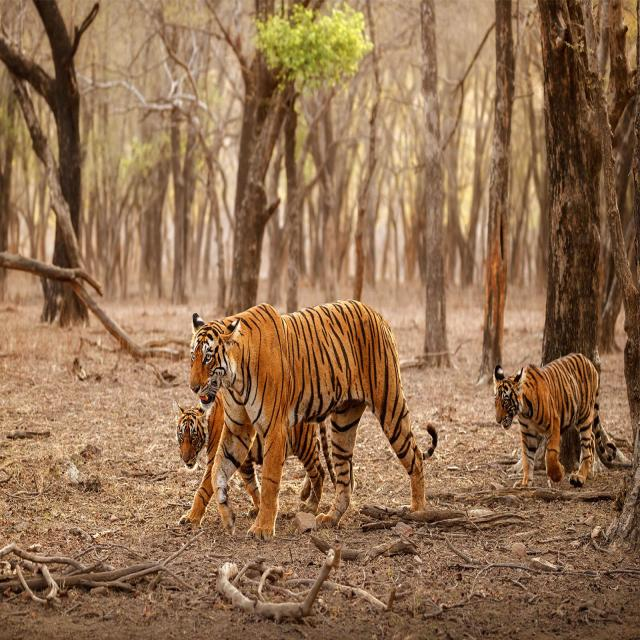Tiger: (188, 298, 438, 540), (172, 391, 342, 532), (492, 350, 632, 489)
